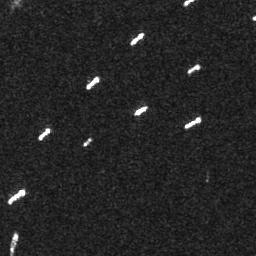ship: (6, 189, 26, 205), (185, 115, 202, 131), (86, 74, 100, 91), (9, 232, 19, 254), (130, 31, 144, 45), (134, 104, 148, 117), (186, 63, 201, 75), (39, 128, 51, 141), (83, 136, 92, 146)
